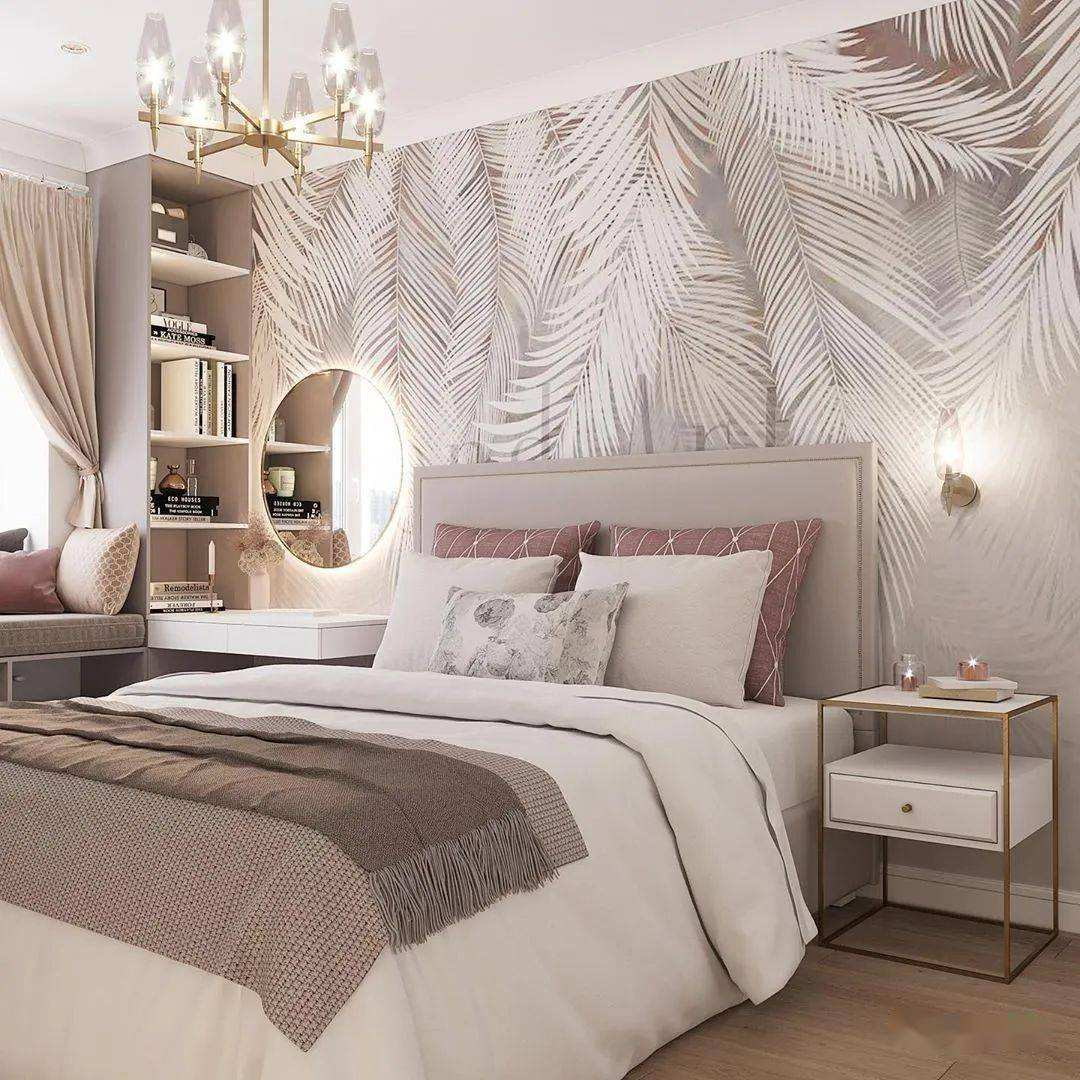床: (0, 663, 856, 1053)
枕头: (385, 532, 772, 699), (0, 529, 139, 617)
灯: (133, 9, 390, 191), (925, 401, 985, 524)
